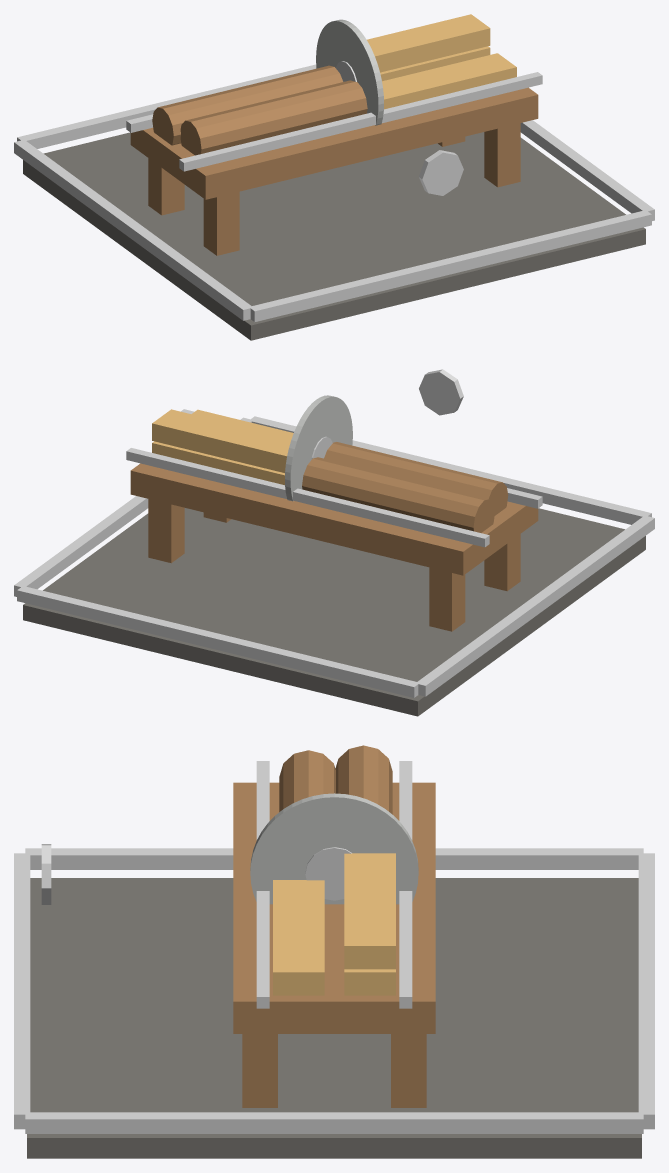
File: t1_sawmill.glb
3 renders of one model, top to bottom at view 1: azimuth 30°, elevation 25°; view 2: azimuth 150°, elevation 25°; view 3: azimuth 270°, elevation 25°, orthographic. The views are drawn at different scales.
Visible parts, largest first — view 1: FootprintBase, TableTop, TierFrontTrim, InputLogA, TierLeftTrim, LeftRail, InputLogB, OutputPlank.001, OutputPlank.002, SawBlade, TierBackTrim, TierRightTrim (+5 smaller); view 2: FootprintBase, TableTop, TierBackTrim, InputLogB, TierLeftTrim, RightRail, OutputPlank.001, InputLogA, TierFrontTrim, SawBlade, TierRightTrim, TableLeg.001 (+6 smaller); view 3: FootprintBase, TableTop, TierRightTrim, SawBlade, TierLeftTrim, OutputPlank.001, OutputPlank.002, TierBackTrim, TierFrontTrim, InputLogB, TableLeg.002, TableLeg.003 (+6 smaller).
Part boxes in pixels (x1=…): FootprintBase: x1=23, y1=132, x2=645, y2=340; TableTop: x1=130, y1=87, x2=538, y2=199; TierFrontTrim: x1=250, y1=210, x2=651, y2=321; InputLogA: x1=180, y1=80, x2=367, y2=155; TierLeftTrim: x1=14, y1=140, x2=253, y2=320; LeftRail: x1=179, y1=72, x2=542, y2=171; InputLogB: x1=152, y1=65, x2=343, y2=145; OutputPlank.001: x1=367, y1=14, x2=490, y2=72; OutputPlank.002: x1=382, y1=53, x2=516, y2=109; SawBlade: x1=316, y1=19, x2=383, y2=125; TierBackTrim: x1=17, y1=64, x2=316, y2=148; TierRightTrim: x1=520, y1=120, x2=654, y2=220; FootprintBase: x1=23, y1=508, x2=645, y2=716; TableTop: x1=130, y1=463, x2=538, y2=575; TierBackTrim: x1=17, y1=586, x2=419, y2=697; InputLogB: x1=302, y1=457, x2=494, y2=532; TierLeftTrim: x1=417, y1=516, x2=654, y2=696; RightRail: x1=126, y1=448, x2=489, y2=547; OutputPlank.001: x1=152, y1=409, x2=291, y2=472; InputLogA: x1=324, y1=442, x2=508, y2=515; TierFrontTrim: x1=249, y1=416, x2=651, y2=524; SawBlade: x1=285, y1=395, x2=352, y2=501; TierRightTrim: x1=14, y1=417, x2=252, y2=596; TableLeg.001: x1=429, y1=567, x2=465, y2=631; FootprintBase: x1=27, y1=878, x2=641, y2=1158; TableTop: x1=233, y1=782, x2=435, y2=1033; TierRightTrim: x1=25, y1=1112, x2=643, y2=1133; SawBlade: x1=250, y1=793, x2=418, y2=904; TierLeftTrim: x1=25, y1=848, x2=643, y2=869; OutputPlank.001: x1=344, y1=853, x2=395, y2=969; OutputPlank.002: x1=273, y1=880, x2=324, y2=995; TierBackTrim: x1=638, y1=853, x2=654, y2=1129; TierFrontTrim: x1=14, y1=853, x2=30, y2=1129; InputLogB: x1=335, y1=745, x2=392, y2=814; TableLeg.002: x1=242, y1=1034, x2=277, y2=1107; TableLeg.003: x1=391, y1=1034, x2=426, y2=1107.
Size of the model in its own units: 3.96 by 1.66 by 3.96.
